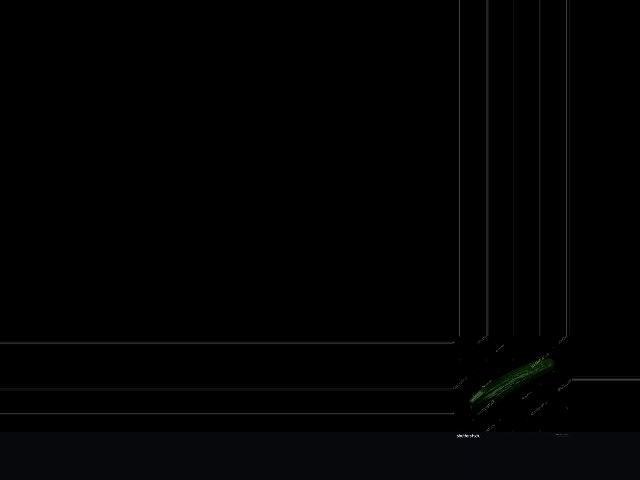cucumber: (469, 357, 555, 412)
